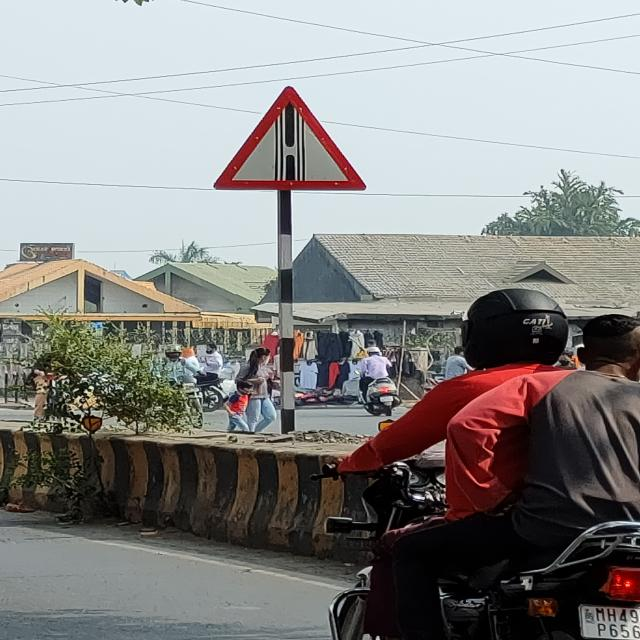ferry: (213, 88, 369, 192)
